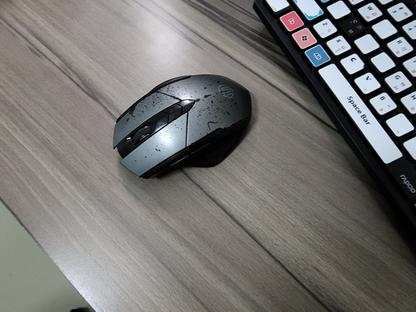mouse: (112, 73, 252, 179)
